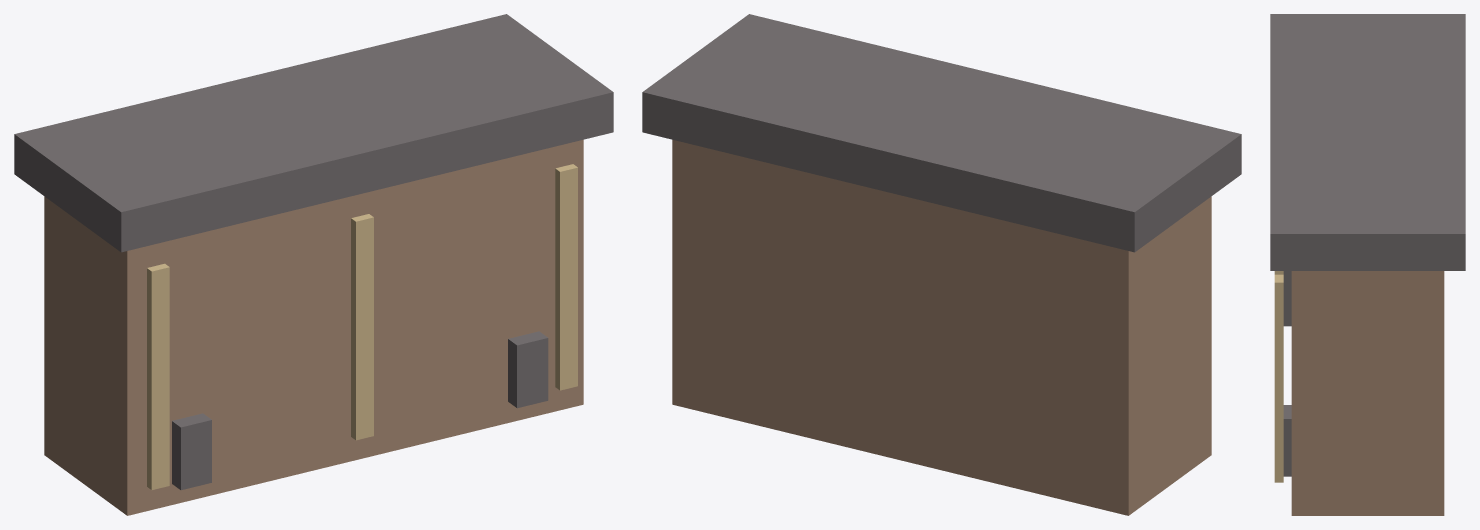
File: merchant_counter_2m.glb
The picture shows the model from 3 angles, left to right: view 1: azimuth 30°, elevation 25°; view 2: azimuth 150°, elevation 25°; view 3: azimuth 270°, elevation 25°; orthographic projection. The views are drawn at different scales.
Parts seen in each view (by area): view 1: box_0, box_1, box_2, box_4, box_3, box_6, box_5; view 2: box_0, box_1; view 3: box_1, box_0, box_4, box_6, box_5.
Part boxes in pixels (x1,y1,x2,y2): box_0: (44, 139, 583, 515); box_1: (14, 14, 613, 252); box_2: (147, 263, 169, 489); box_4: (555, 164, 577, 390); box_3: (351, 214, 373, 440); box_6: (508, 331, 548, 408); box_5: (172, 413, 211, 490); box_0: (672, 139, 1211, 515); box_1: (642, 14, 1241, 252); box_1: (1270, 14, 1465, 270); box_0: (1291, 271, 1444, 515); box_4: (1274, 274, 1283, 482); box_6: (1283, 405, 1291, 476); box_5: (1283, 271, 1291, 326).
Bounding box in the file's own units: 2.05 × 1.26 × 0.77.
